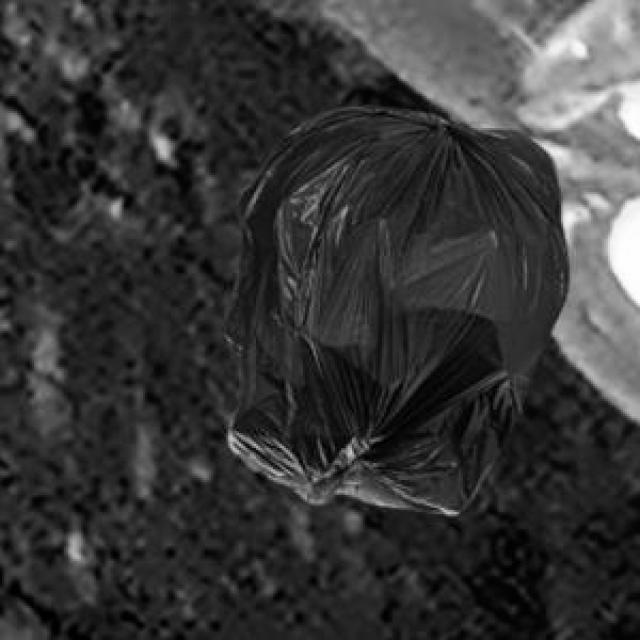miscellaneous trash: (222, 102, 563, 510)
